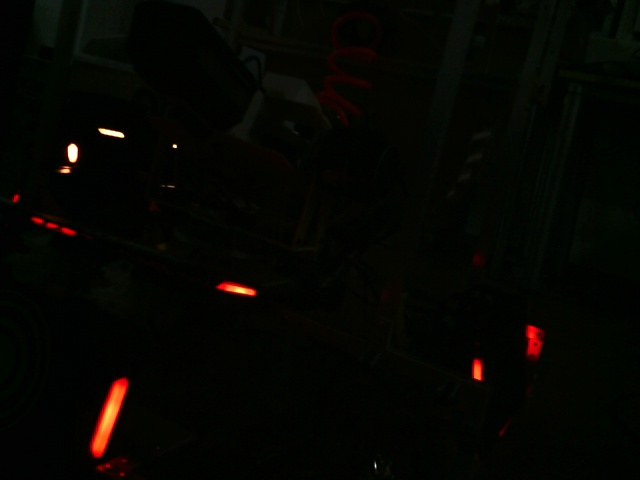lamp: (82, 367, 132, 461)
